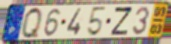3: (131, 6, 151, 36)
4: (65, 7, 83, 38)
5: (85, 6, 108, 37)
6: (43, 8, 61, 38)
Q: (20, 6, 43, 40)
Z: (110, 6, 134, 36)
